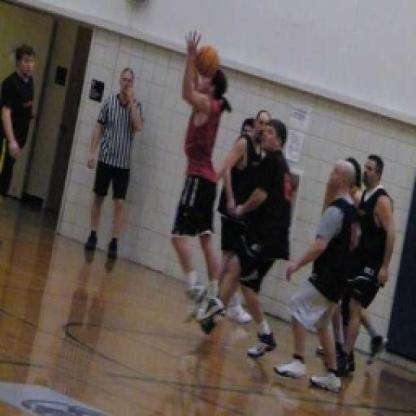basketball: (193, 40, 221, 70)
